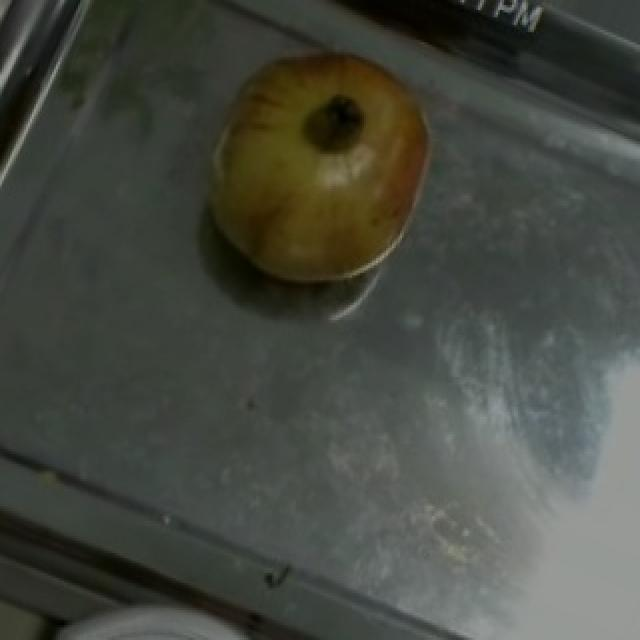fruit: (178, 10, 466, 283)
